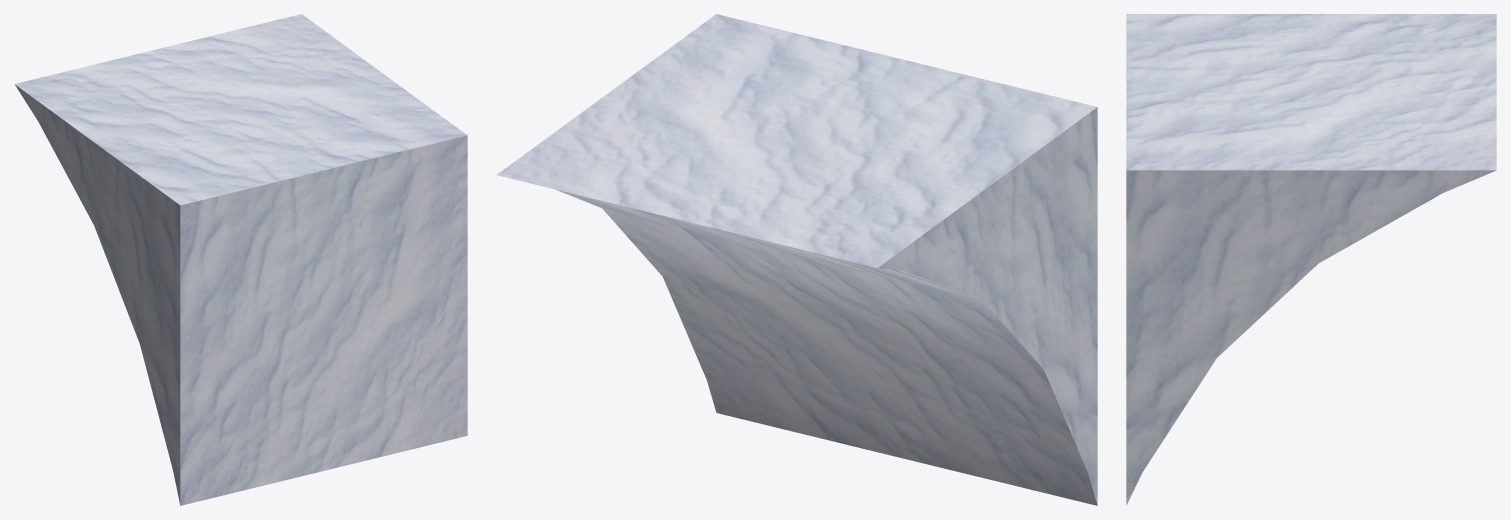
The model's file is POL0310001.fbx.
The picture shows the model from 3 angles, left to right: view 1: azimuth 30°, elevation 25°; view 2: azimuth 150°, elevation 25°; view 3: azimuth 270°, elevation 25°; orthographic projection. The views are drawn at different scales.
Parts seen in each view (by area): view 1: smPOL0310001; view 2: smPOL0310001; view 3: smPOL0310001.
Part boxes in pixels (<box>): smPOL0310001: <box>14,14,467,505</box>; smPOL0310001: <box>497,14,1097,505</box>; smPOL0310001: <box>1126,14,1496,505</box>.
Bounding box in the file's own units: 161 × 161 × 161.
1 material, 1 textured.
